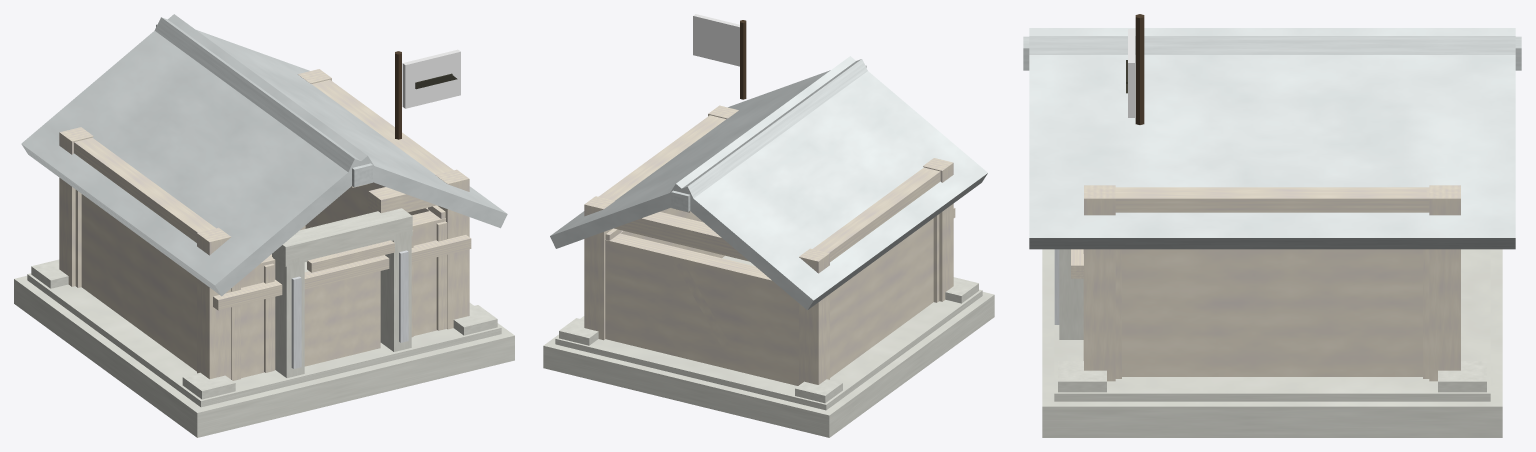
The model's file is barracks-construction-v1.glb.
3 renders of one model, left to right at view 1: azimuth 30°, elevation 25°; view 2: azimuth 150°, elevation 25°; view 3: azimuth 270°, elevation 25°, orthographic. The views are drawn at different scales.
Visible parts, largest first — view 1: barracks.complete.roof, barracks.foundation, barracks.construction.walls, barracks.complete.gate, barracks.construction.frame, barracks.standard.azure, barracks.standard.ember, barracks.construction.roof-frame; view 2: barracks.complete.roof, barracks.construction.walls, barracks.foundation, barracks.construction.frame, barracks.standard.azure, barracks.standard.ember, barracks.construction.roof-frame; view 3: barracks.complete.roof, barracks.construction.walls, barracks.foundation, barracks.construction.frame, barracks.complete.gate, barracks.standard.azure.
Part boxes in pixels (x1=…): barracks.complete.roof: x1=21, y1=14, x2=507, y2=310; barracks.foundation: x1=14, y1=259, x2=514, y2=437; barracks.construction.walls: x1=75, y1=182, x2=447, y2=380; barracks.complete.gate: x1=272, y1=208, x2=412, y2=377; barracks.construction.frame: x1=59, y1=69, x2=469, y2=379; barracks.standard.azure: x1=395, y1=49, x2=460, y2=139; barracks.standard.ember: x1=405, y1=52, x2=460, y2=107; barracks.construction.roof-frame: x1=23, y1=146, x2=367, y2=292; barracks.complete.roof: x1=550, y1=56, x2=987, y2=310; barracks.construction.walls: x1=605, y1=208, x2=939, y2=385; barracks.foundation: x1=543, y1=255, x2=994, y2=437; barracks.construction.frame: x1=584, y1=105, x2=953, y2=384; barracks.standard.azure: x1=693, y1=14, x2=746, y2=99; barracks.standard.ember: x1=693, y1=16, x2=739, y2=65; barracks.construction.roof-frame: x1=676, y1=175, x2=985, y2=302; barracks.complete.roof: x1=1023, y1=28, x2=1521, y2=278; barracks.construction.walls: x1=1083, y1=249, x2=1429, y2=378; barracks.foundation: x1=1042, y1=249, x2=1502, y2=437; barracks.construction.frame: x1=1084, y1=185, x2=1460, y2=381; barracks.complete.gate: x1=1054, y1=249, x2=1083, y2=339; barracks.standard.azure: x1=1126, y1=14, x2=1144, y2=124.
Size of the model in its own units: 3.2 by 2.87 by 3.46.
2 materials, 1 textured.
